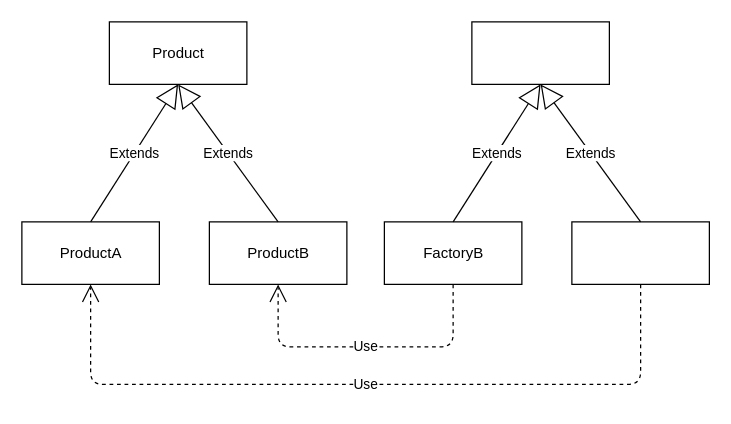
This 731x424 diagram has some shape labels left out. The centre of each missing label's shape, as x and y in pixels:
FactorytA: point (640, 252)
IFactory: point (540, 52)
